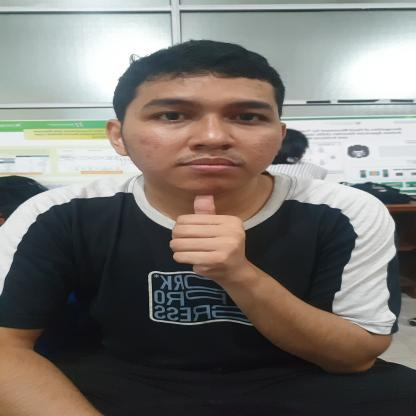Siapa: (160, 187, 252, 280)
